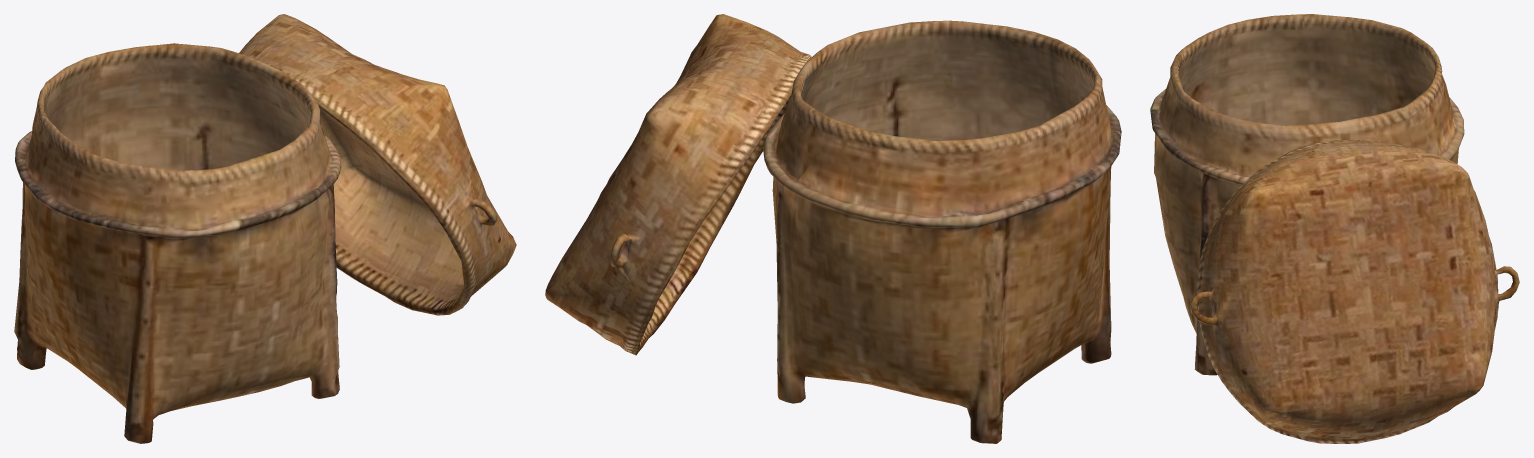
The model's file is basket.glb.
3 views of the same model, side by side, from view 1: azimuth 30°, elevation 25°; view 2: azimuth 150°, elevation 25°; view 3: azimuth 270°, elevation 25° (orthographic). The views are drawn at different scales.
Visible parts, largest first — view 1: basket; view 2: basket; view 3: basket.
Part boxes in pixels (x1,y1,x2,y2): basket: [14, 14, 516, 443]; basket: [545, 14, 1121, 443]; basket: [1150, 14, 1519, 443].
Size of the model in its own units: 0.503 by 0.2905 by 0.3684.
Materials: 1 (1 with a texture image).
